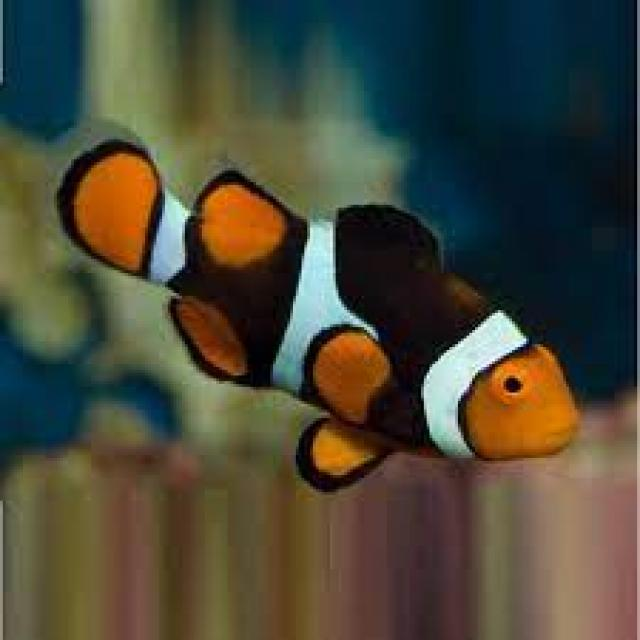Amphiprion-percula: (41, 101, 601, 498)
